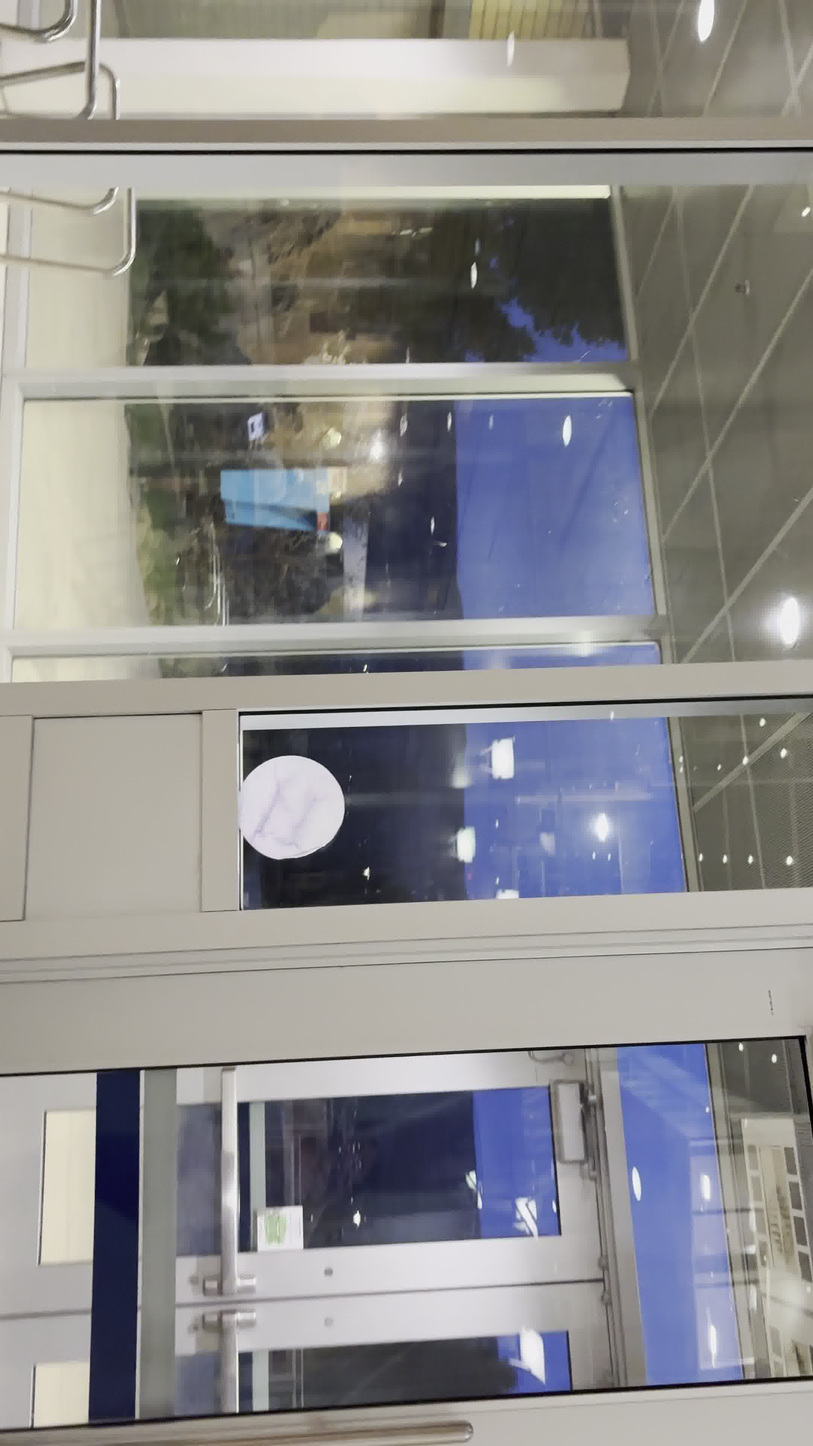Target: (236, 753, 347, 862)
